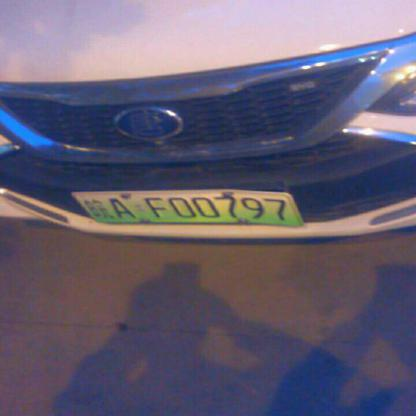lp: (70, 190, 302, 224)
